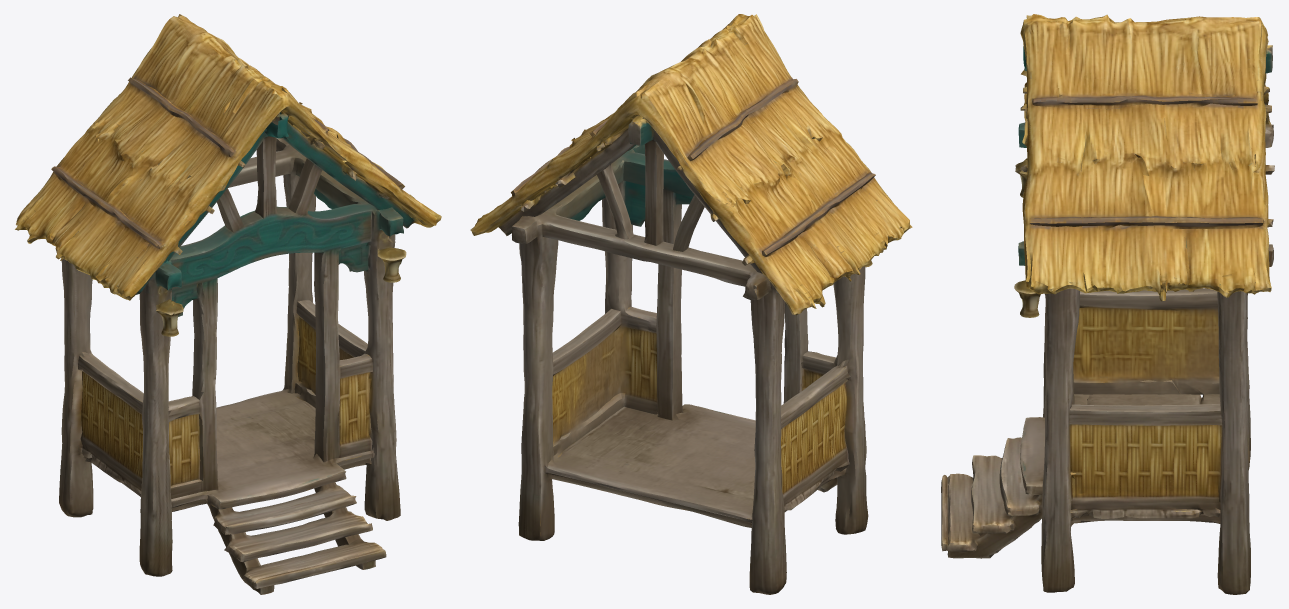
Rendered from tidewake_reed_hall_porch.glb.
3 views of the same model, side by side, from view 1: azimuth 30°, elevation 25°; view 2: azimuth 150°, elevation 25°; view 3: azimuth 270°, elevation 25° (orthographic). The views are drawn at different scales.
Parts seen in each view (by area): view 1: Mesh_0; view 2: Mesh_0; view 3: Mesh_0.
Part boxes in pixels (left/top/right/bottom): Mesh_0: left=15, top=14, right=441, bottom=594; Mesh_0: left=470, top=14, right=912, bottom=594; Mesh_0: left=941, top=14, right=1274, bottom=594.
Size of the model in its own units: 4 by 5.34 by 3.15.
1 material, 1 textured.
